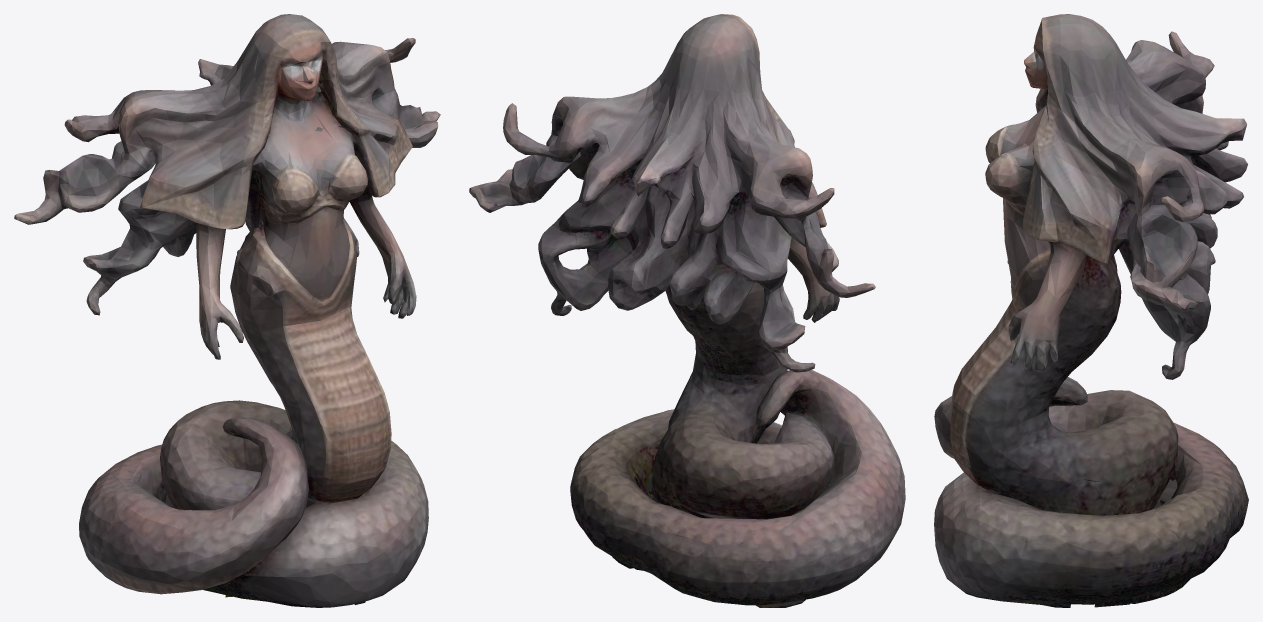
The model's file is shadeLamia.glb.
3 renders of one model, left to right at view 1: azimuth 30°, elevation 25°; view 2: azimuth 150°, elevation 25°; view 3: azimuth 270°, elevation 25°, orthographic. The views are drawn at different scales.
Visible parts, largest first — view 1: world; view 2: world; view 3: world.
Part boxes in pixels (x1,y1,x2,y2): world: [14, 14, 440, 607]; world: [469, 14, 905, 607]; world: [934, 14, 1248, 607].
Size of the model in its own units: 0.6371 by 0.778 by 0.4039.
Materials: 1 (1 with a texture image).
